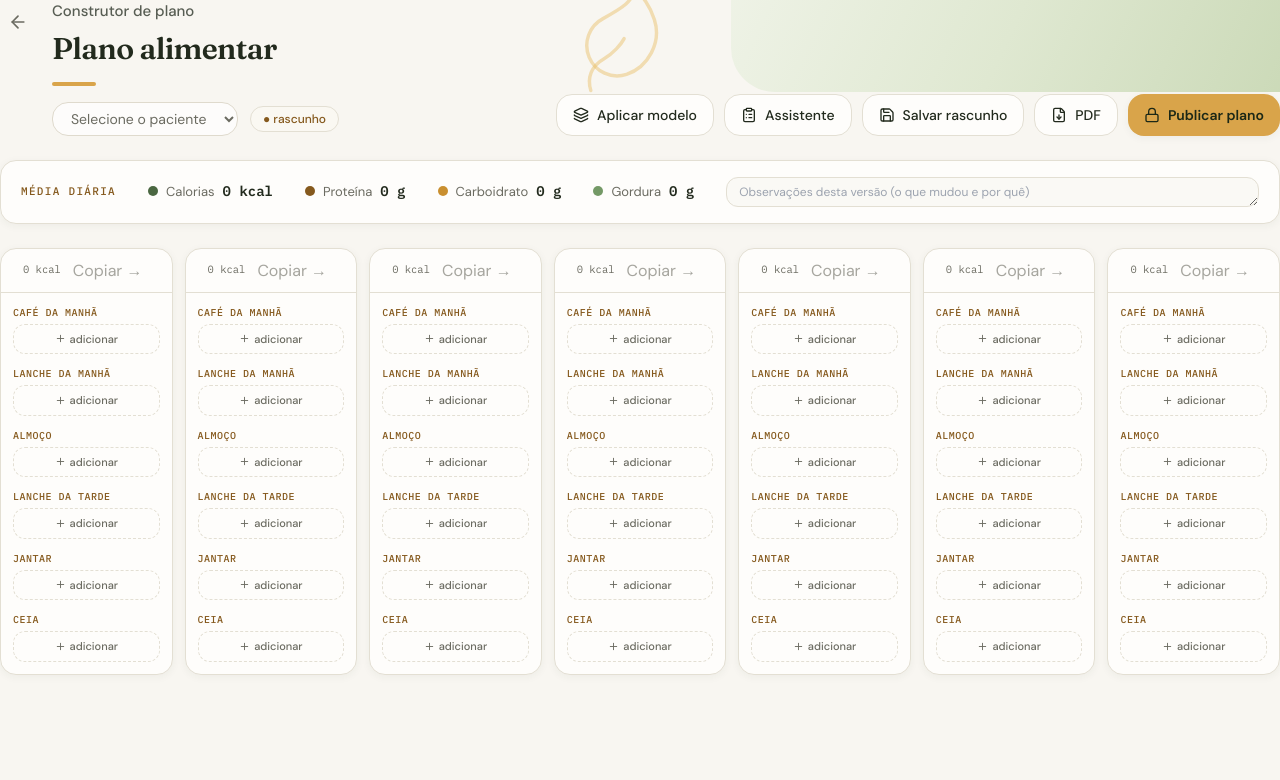
Test: PlanBuilder — substituições e publicação › exige salvar o plano antes de prescrever substituição
The width and height of the screenshot is (1280, 780).
What coordinates should you click on to do the following:
click the 1st button "adicionar"
I would click on:
 (86, 339)
Its box is [13,324,160,354].
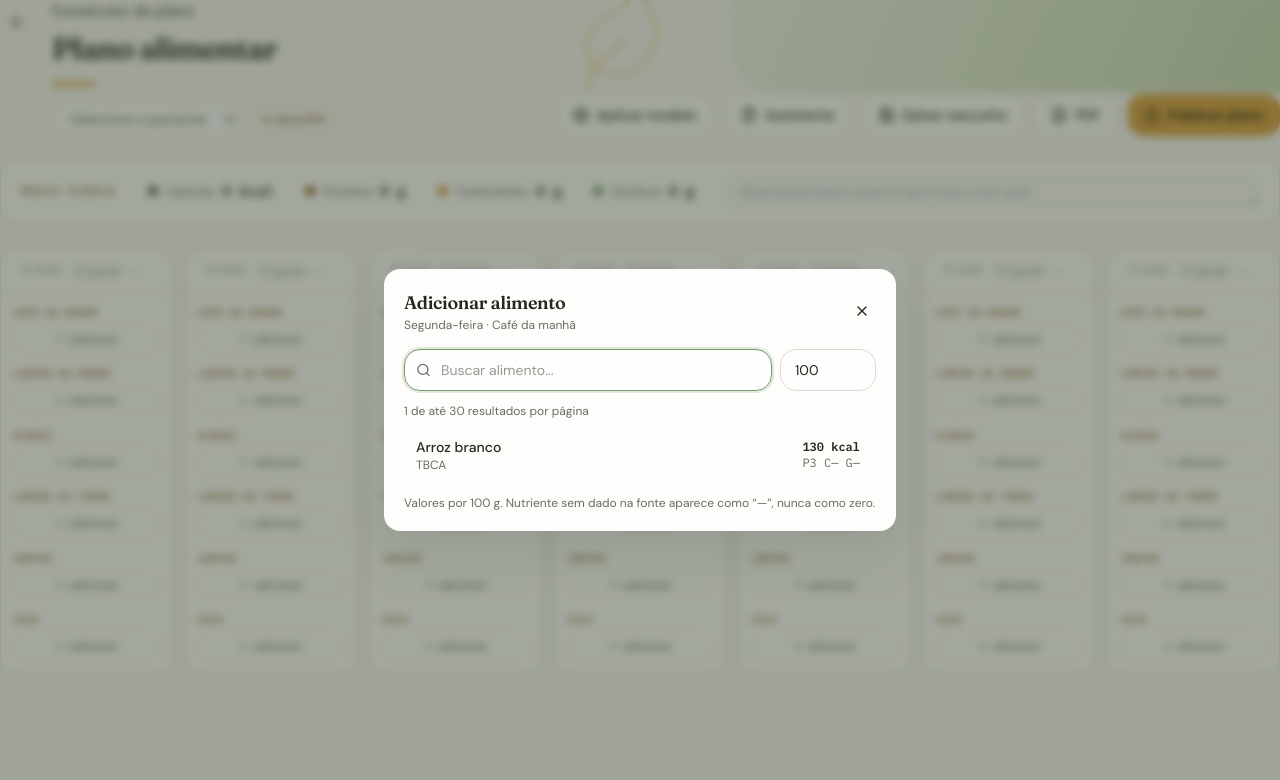
What coordinates should you click on to do the following:
click the button "Arroz branco TBCA 130 kcal P3 C— G—"
I would click on:
 (459, 447)
Its box is [404,427,872,483].
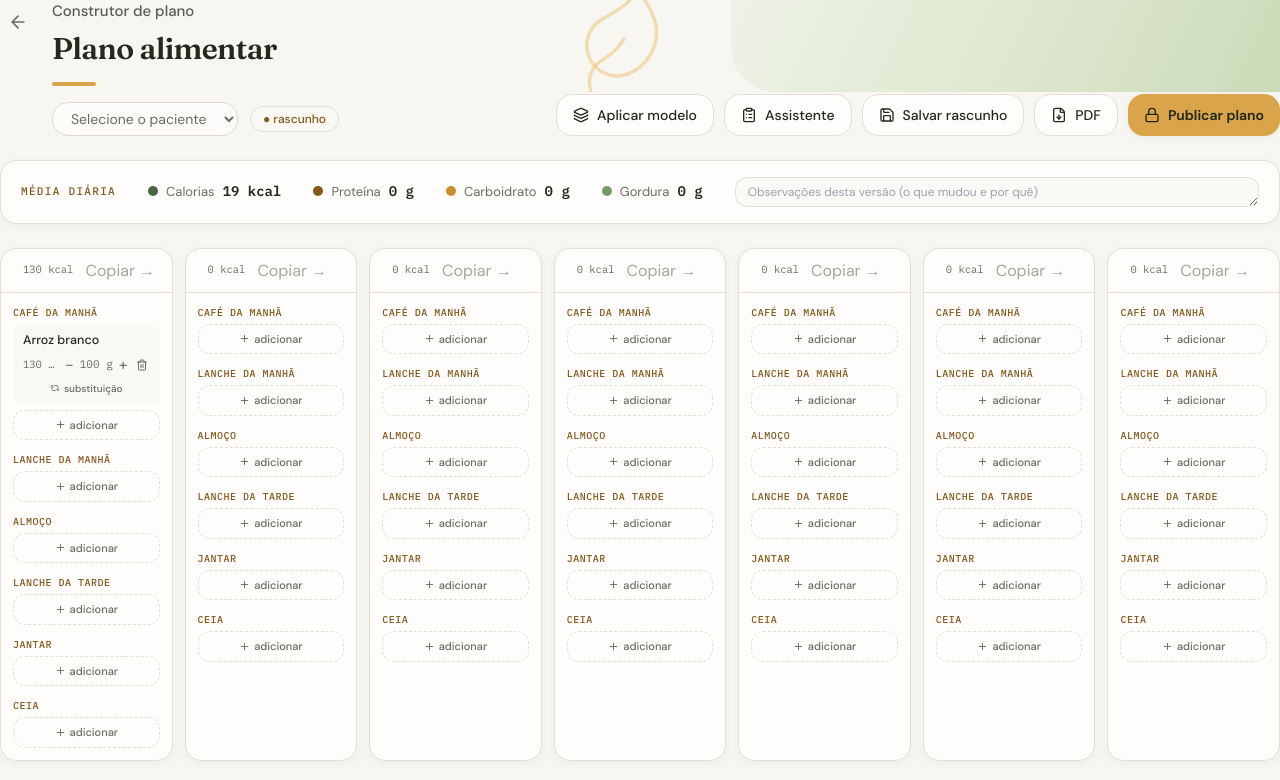
What coordinates should you click on to do the following:
click the button "substituição"
I would click on:
 (86, 388)
Its box is [23,381,150,396].
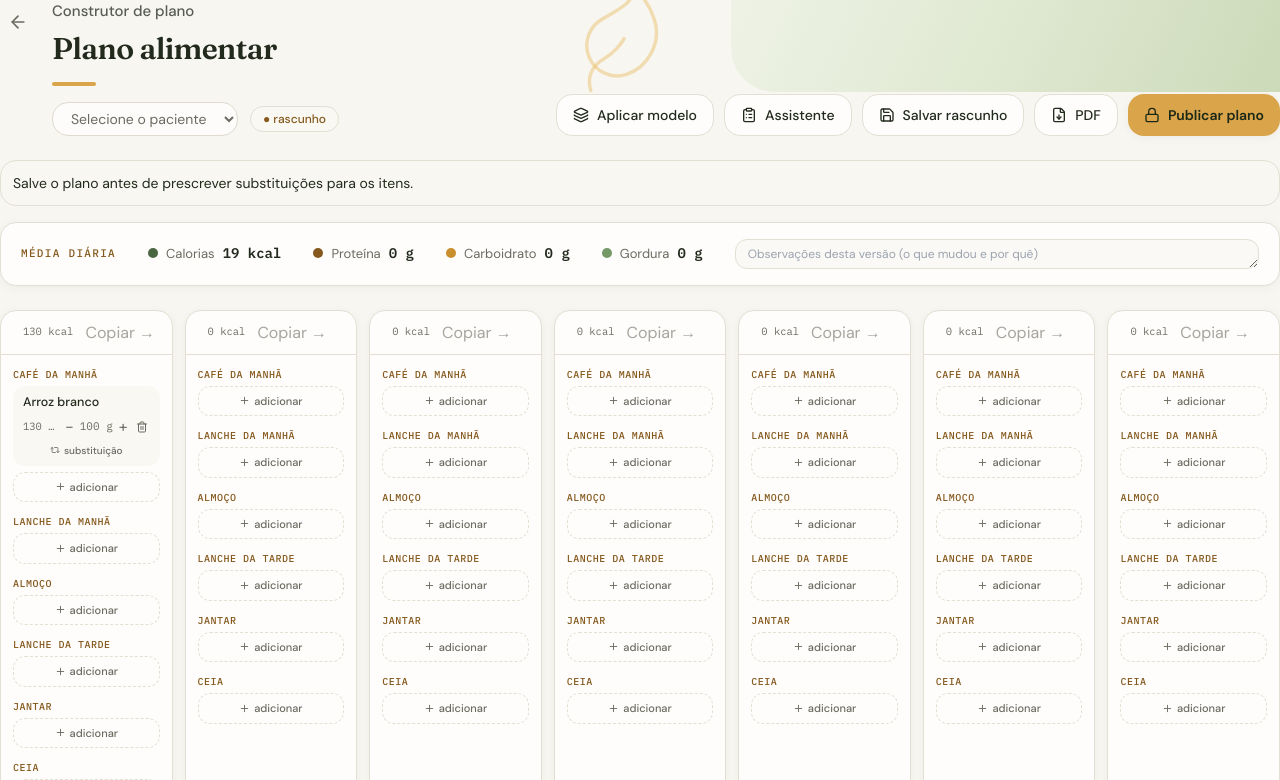
Expected: the text "Salve o plano antes de prescrever substituições para os itens." is shown, [0,160,1279,206]
